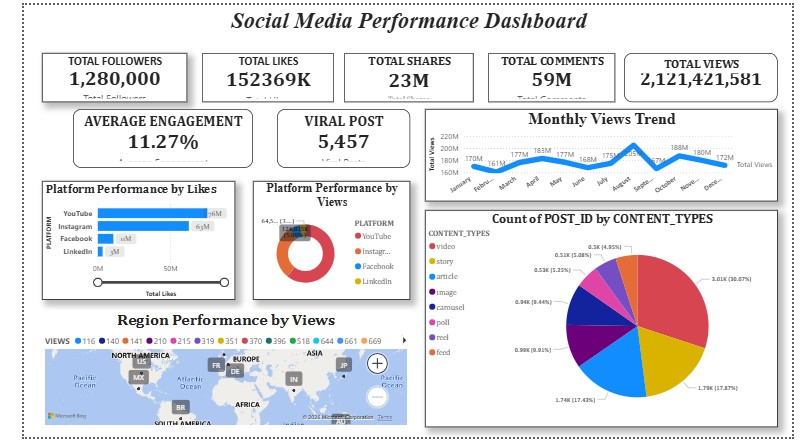

The page's visual inventory and layout, read from the dashboard file:
{"tool":"powerbi","page":{"name":"Dashboar_Overview","canvas":[1280,720],"ordinal":6},"visuals":[{"type":"card","title":"TOTAL FOLLOWERS","fields":{"Values":["social_media_performance.Total Followers"]},"box":[30,80,242,82],"z":0},{"type":"card","title":"TOTAL LIKES","fields":{"Values":["social_media_performance.Total Likes"]},"box":[296,80,220,82],"z":1000},{"type":"card","title":"TOTAL SHARES","fields":{"Values":["social_media_performance.Total Shares"]},"box":[534,80,216,82],"z":2000},{"type":"card","title":"TOTAL COMMENTS","fields":{"Values":["social_media_performance.Total Comments"]},"box":[774,80,212,82],"z":3000},{"type":"card","title":"TOTAL VIEWS","fields":{"Values":["social_media_performance.Total Views"]},"box":[1000,80,256,82],"z":4000},{"type":"card","title":"VIRAL POST","fields":{"Values":["social_media_performance.Viral Posts"]},"box":[422,174,222,98],"z":5000},{"type":"card","title":"AVERAGE ENGAGEMENT","fields":{"Values":["social_media_performance.Average Engagement"]},"box":[82,174,300,98],"z":6000},{"type":"clusteredBarChart","title":"Platform Performance by Likes","fields":{"Category":["social_media_performance.PLATFORM"],"Y":["social_media_performance.Total Likes"]},"box":[30,294,322,198],"z":7000},{"type":"donutChart","title":"Platform Performance by Views","fields":{"Category":["social_media_performance.PLATFORM"],"Y":["social_media_performance.Total Views"]},"box":[381.7,293.3,261.7,198.3],"z":8000},{"type":"pieChart","fields":{"Category":["social_media_performance.CONTENT_TYPES"],"Y":["CountNonNull(social_media_performance.POST_ID)"]},"box":[668,342,588,362],"z":9000},{"type":"textbox","box":[322,0,640,80],"z":10000},{"type":"lineChart","title":"Monthly Views Trend","fields":{"Category":["social_media_performance.POST_DATETIME.Variation.Date Hierarchy.Month"],"Y":["social_media_performance.Total Views"]},"box":[668,174,588,154],"z":10001},{"type":"map","title":"Region Performance by Views","fields":{"Category":["social_media_performance.REGION"],"Series":["social_media_performance.VIEWS"]},"box":[30,508,614,196],"z":10002}]}

Visuals, with their boxes in screenshot pixels (x1, y1, x2, y2), scaled from the page's 1280x720 canvas onto the 807x448 screenshot:
"TOTAL FOLLOWERS" card: [19,50,171,101]
"TOTAL LIKES" card: [187,50,325,101]
"TOTAL SHARES" card: [337,50,473,101]
"TOTAL COMMENTS" card: [488,50,622,101]
"TOTAL VIEWS" card: [630,50,792,101]
"VIRAL POST" card: [266,108,406,169]
"AVERAGE ENGAGEMENT" card: [52,108,241,169]
"Platform Performance by Likes" clusteredBarChart: [19,183,222,306]
"Platform Performance by Views" donutChart: [241,182,406,306]
pieChart - social_media_performance.CONTENT_TYPES x CountNonNull(social_media_performance.POST_ID): [421,213,792,438]
textbox: [203,0,607,50]
"Monthly Views Trend" lineChart: [421,108,792,204]
"Region Performance by Views" map: [19,316,406,438]
